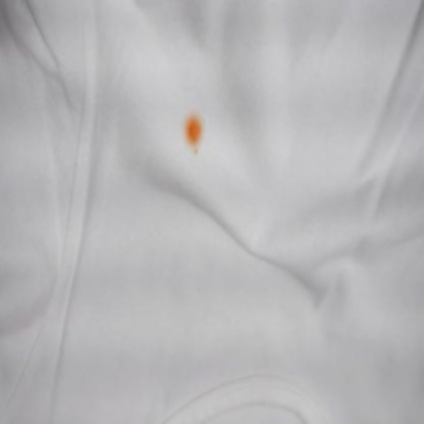kimchi: (182, 112, 209, 159)
